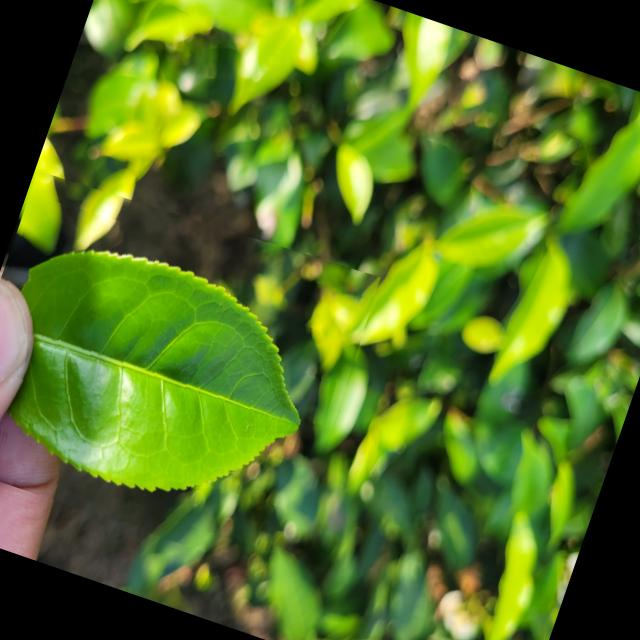Category B(2-4 days): (0, 160, 385, 579)
